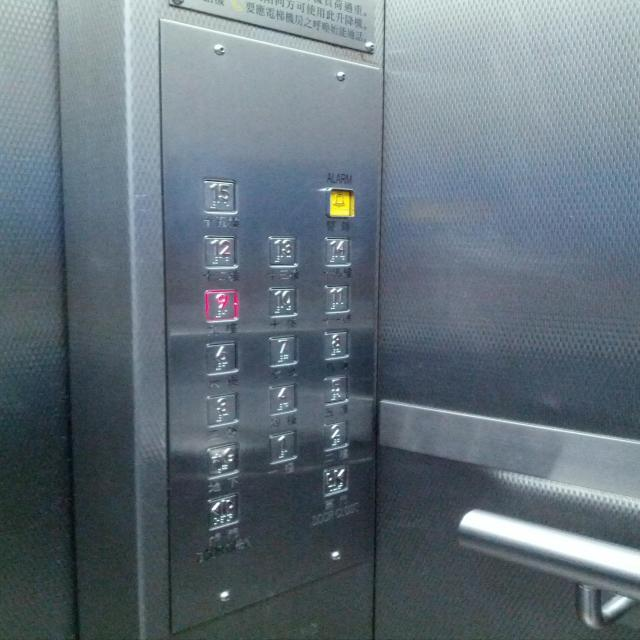1: (268, 429, 298, 466)
10: (267, 286, 298, 319)
11: (321, 284, 351, 315)
12: (204, 234, 238, 269)
13: (267, 235, 297, 268)
14: (322, 236, 352, 266)
15: (202, 178, 236, 214)
2: (322, 420, 348, 453)
3: (203, 392, 239, 428)
4: (267, 383, 296, 417)
5: (321, 374, 349, 406)
6: (204, 340, 238, 377)
7: (267, 335, 297, 369)
8: (322, 329, 349, 360)
9: (204, 288, 238, 322)
alarm: (325, 186, 357, 219)
close: (321, 465, 349, 498)
open: (204, 492, 238, 532)
sG: (204, 441, 238, 482)
